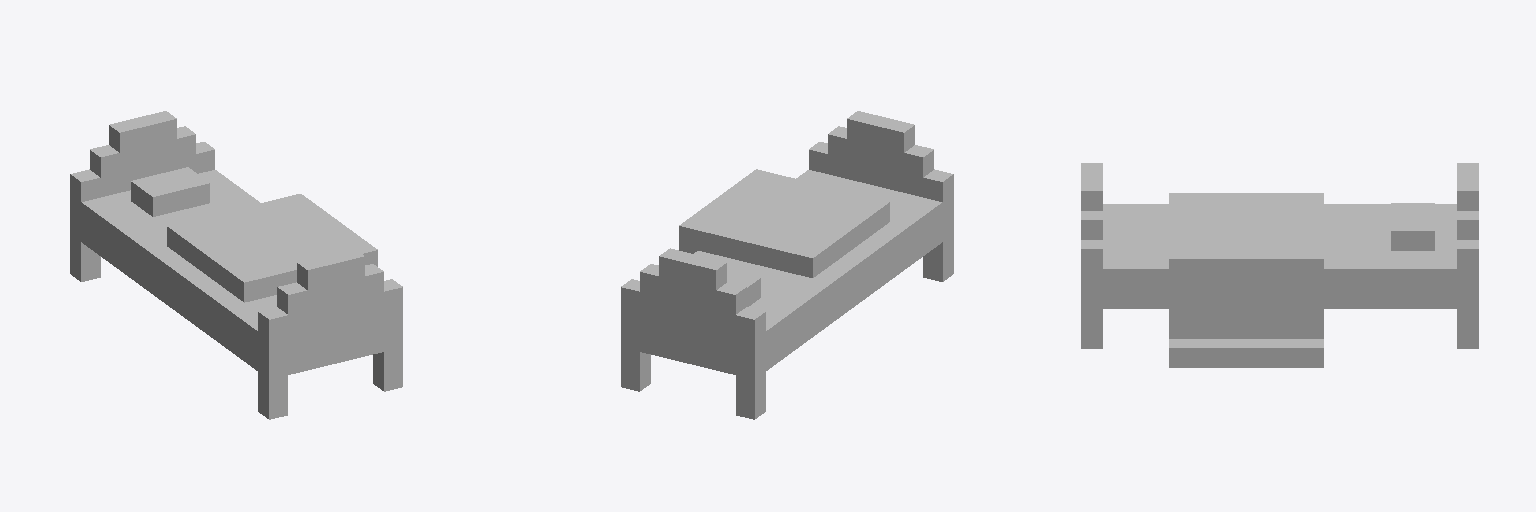
The model's file is bed.obj.
3 renders of one model, left to right at view 1: azimuth 30°, elevation 25°; view 2: azimuth 150°, elevation 25°; view 3: azimuth 270°, elevation 25°, orthographic.
Parts seen in each view (by area): view 1: bed; view 2: bed; view 3: bed.
Boxes of the visible parts, x1=… form: bed: x1=70, y1=111, x2=402, y2=419; bed: x1=621, y1=111, x2=953, y2=419; bed: x1=1081, y1=163, x2=1478, y2=367.
Bounding box in the file's own units: 9 × 7 × 18.